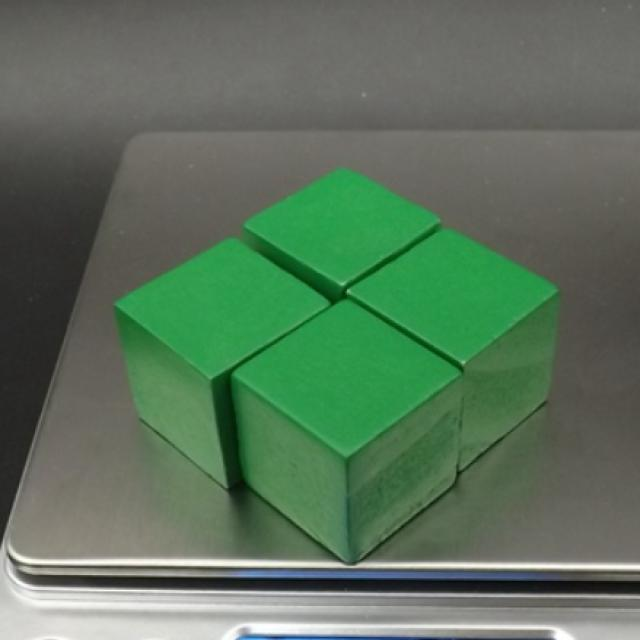green cube: (233, 297, 460, 566), (112, 233, 333, 491), (346, 227, 560, 474), (243, 165, 442, 304)
